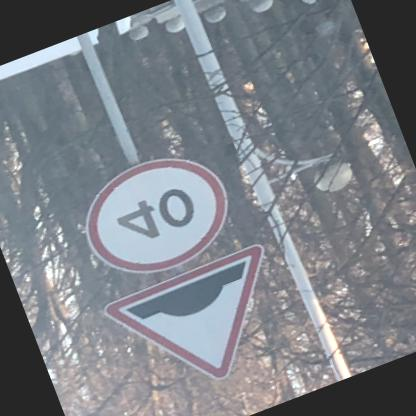speedlimit: (67, 141, 241, 293)
